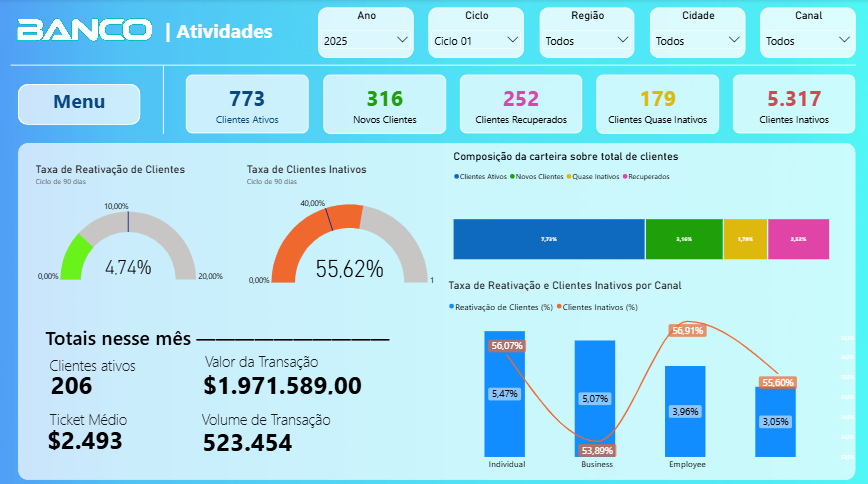

Layout of this report page (visuals, bound fields, positions):
{"tool":"powerbi","page":{"name":"Atividades","canvas":[1920,1080],"ordinal":1},"visuals":[{"type":"shape","box":[40,316.7,1846.7,743.3],"z":0},{"type":"card","title":"Clientes Ativos","fields":{"Values":["_medidas.volume_transacionado"]},"box":[420,807.5,402,80],"z":0,"group":"g2"},{"type":"slicer","title":"Ciclo","fields":{"Values":["fat_transaction.Ciclo"]},"box":[944.1,18.5,210.6,111],"z":1000},{"type":"textbox","box":[450,777.5,338,42],"z":1000,"group":"g2"},{"type":"slicer","title":"Ano","fields":{"Values":["fat_transaction.Transaction_Date.Variação.Hierarquia de datas.Ano"]},"box":[701.1,18.5,210.6,111],"z":2000},{"type":"card","title":"Clientes Ativos","fields":{"Values":["_medidas.clientes_ativos_60d"]},"box":[410,167.7,270.7,129.6],"z":3000},{"type":"card","title":"Novos Clientes","fields":{"Values":["_medidas.clientes_novos_60d"]},"box":[711.8,167.5,270,130],"z":4000},{"type":"card","fields":{"Values":["_medidas.clientes_quase_inativos"]},"box":[1313.9,167.5,270,130],"z":5000},{"type":"card","fields":{"Values":["_medidas.clientes_elegiveis_recuperacao"]},"box":[1615,167.5,270,130],"z":6000},{"type":"card","fields":{"Values":["_medidas.clientes_recuperados_90d"]},"box":[1012.9,167.5,270,130],"z":7000},{"type":"slicer","title":"Região","fields":{"Values":["dim_customer.Region"]},"box":[1189.3,18.5,208.2,111],"z":8000},{"type":"slicer","title":"Cidade","fields":{"Values":["dim_customer.City"]},"box":[1432.3,18.5,210.6,111],"z":9000},{"type":"gauge","title":"Taxa de Reativação de Clientes","fields":{"MaxValue":["_medidas.max_reativacao"],"TargetValue":["_medidas.meta_reativacao"],"Y":["_medidas.taxa_reativacao"]},"box":[62.5,347.1,448.9,300],"z":10000},{"type":"gauge","title":"Taxa de Clientes Inativos","fields":{"MaxValue":["_medidas.max_inatividade"],"TargetValue":["_medidas.meta_inatividade"],"Y":["_medidas.taxa_inatividade_90d"]},"box":[527.6,347.1,450,300],"z":11000},{"type":"lineClusteredColumnComboChart","title":"Taxa de Reativação e Clientes Inativos por Canal","fields":{"Category":["dim_customer.Customer_Type"],"Y":["_medidas.taxa_reativacao"],"Y2":["_medidas.taxa_inatividade_90d"]},"box":[972.5,602.5,947.5,457.5],"z":12000},{"type":"slicer","title":"Canal","fields":{"Values":["dim_customer.Customer_Type"]},"box":[1675.2,18.5,210.6,111],"z":13000},{"type":"image","box":[20,0,327.5,135],"z":14000},{"type":"textbox","box":[362.5,40,327.5,75],"z":15000},{"type":"barChart","title":"Composição da carteira sobre total de clientes","fields":{"Y":["_medidas.perc_ativos_carteira","_medidas.perc_novos_carteira","_medidas.perc_quase_inativos_carteira","_medidas.perc_recuperados_carteira"]},"box":[983.3,316.7,903.3,343.3],"z":16000},{"type":"shape","box":[23.1,124.9,1862.7,41.6],"z":17000},{"type":"shape","box":[40,187.5,270,90],"z":18000},{"type":"shape","box":[310,145,100,152.5],"z":19000},{"type":"textbox","box":[39.3,194.4,270.7,74],"z":20000},{"type":"shape","box":[40,187.5,270,90],"z":21000},{"type":"card","title":"Clientes Ativos","fields":{"Values":["_medidas.volume_transacionado_mes_atual"]},"box":[420,935,248,80],"z":21000,"group":"g1"},{"type":"textbox","box":[100,717.5,765,80],"z":22000},{"type":"card","title":"Clientes Ativos","fields":{"Values":["_medidas.ticket_medio_mes_atual"]},"box":[85,931,204,80],"z":22000,"group":"g4"},{"type":"group","id":"g1","title":"Grupo 1","box":[420,905,362.5,110],"z":23000},{"type":"group","id":"g2","title":"Grupo 2","box":[420,777.5,402.5,110],"z":24000},{"type":"card","title":"Clientes Ativos","fields":{"Values":["_medidas.clientes_ativos_mes_atual"]},"box":[85,807,144,80],"z":24000,"group":"g3"},{"type":"group","id":"g3","title":"Grupo 3","box":[85,785,235,102.5],"z":25000},{"type":"textbox","box":[107,785,214,42],"z":26000,"group":"g3"},{"type":"group","id":"g4","title":"Grupo 4","box":[85,905,225,105],"z":26000},{"type":"textbox","box":[107,905,204,42],"z":27000,"group":"g4"},{"type":"textbox","box":[444,905,338,42],"z":29000,"group":"g1"}]}

Visuals, with their boxes in screenshot pixels (x1, y1, x2, y2), scaled from the page's 1920x1080 canvas onto the 868x484 screenshot:
shape: box(18, 142, 853, 475)
"Clientes Ativos" card: box(190, 362, 372, 398)
"Ciclo" slicer: box(427, 8, 522, 58)
textbox: box(203, 348, 356, 367)
"Ano" slicer: box(317, 8, 412, 58)
"Clientes Ativos" card: box(185, 75, 308, 133)
"Novos Clientes" card: box(322, 75, 444, 133)
card - _medidas.clientes_quase_inativos: box(594, 75, 716, 133)
card - _medidas.clientes_elegiveis_recuperacao: box(730, 75, 852, 133)
card - _medidas.clientes_recuperados_90d: box(458, 75, 580, 133)
"Região" slicer: box(538, 8, 632, 58)
"Cidade" slicer: box(648, 8, 743, 58)
"Taxa de Reativação de Clientes" gauge: box(28, 156, 231, 290)
"Taxa de Clientes Inativos" gauge: box(239, 156, 442, 290)
"Taxa de Reativação e Clientes Inativos por Canal" lineClusteredColumnComboChart: box(440, 270, 867, 475)
"Canal" slicer: box(757, 8, 853, 58)
image: box(9, 0, 157, 60)
textbox: box(164, 18, 312, 52)
"Composição da carteira sobre total de clientes" barChart: box(445, 142, 853, 296)
shape: box(10, 56, 853, 75)
shape: box(18, 84, 140, 124)
shape: box(140, 65, 185, 133)
textbox: box(18, 87, 140, 120)
shape: box(18, 84, 140, 124)
"Clientes Ativos" card: box(190, 419, 302, 455)
textbox: box(45, 322, 391, 357)
"Clientes Ativos" card: box(38, 417, 131, 453)
"Grupo 1" group: box(190, 406, 354, 455)
"Grupo 2" group: box(190, 348, 372, 398)
"Clientes Ativos" card: box(38, 362, 104, 398)
"Grupo 3" group: box(38, 352, 145, 398)
textbox: box(48, 352, 145, 371)
"Grupo 4" group: box(38, 406, 140, 453)
textbox: box(48, 406, 141, 424)
textbox: box(201, 406, 354, 424)
